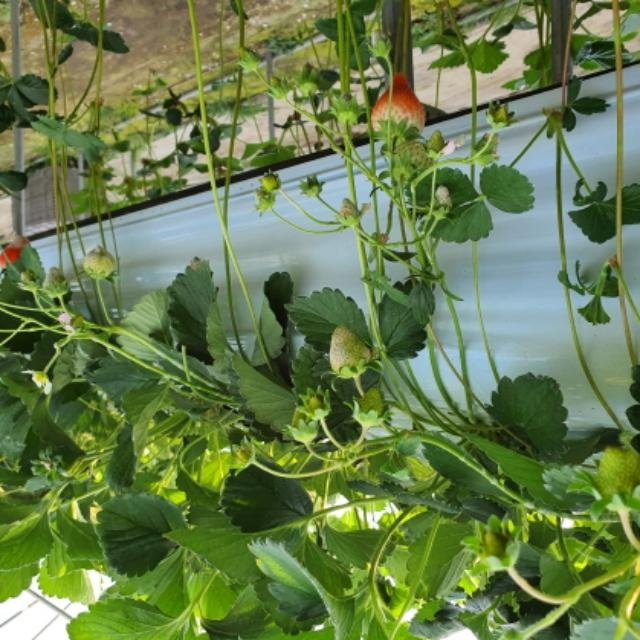Powdery Mildew Fruit: (329, 323, 371, 378)
